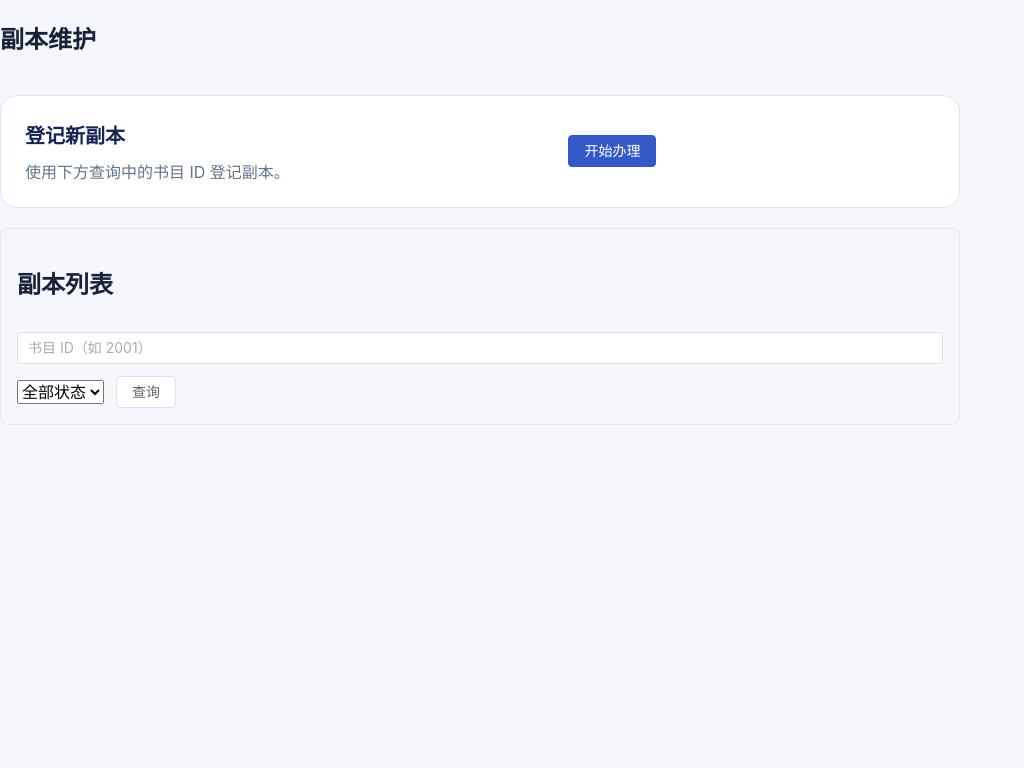
Test case: CopyAdminView › applies a state action with optimistic version
Submit the form with test id "copy-filter-form", box [17, 332, 943, 408]
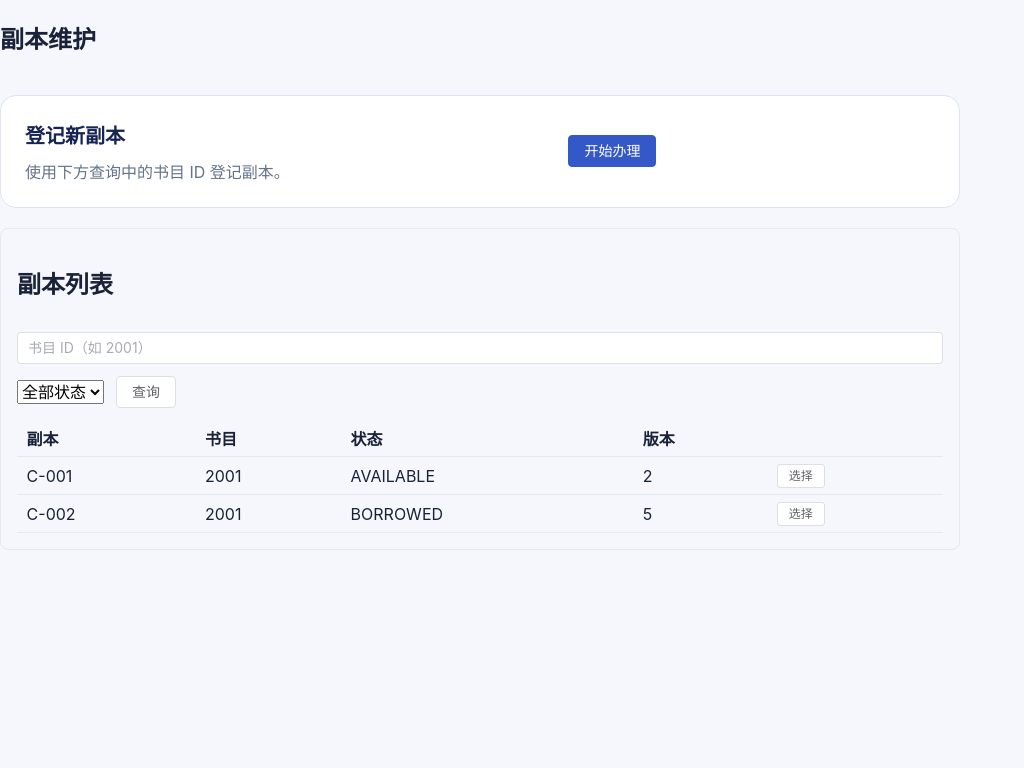
Click the button with test id "copy-select-3001" at (801, 476), box [777, 464, 825, 488]
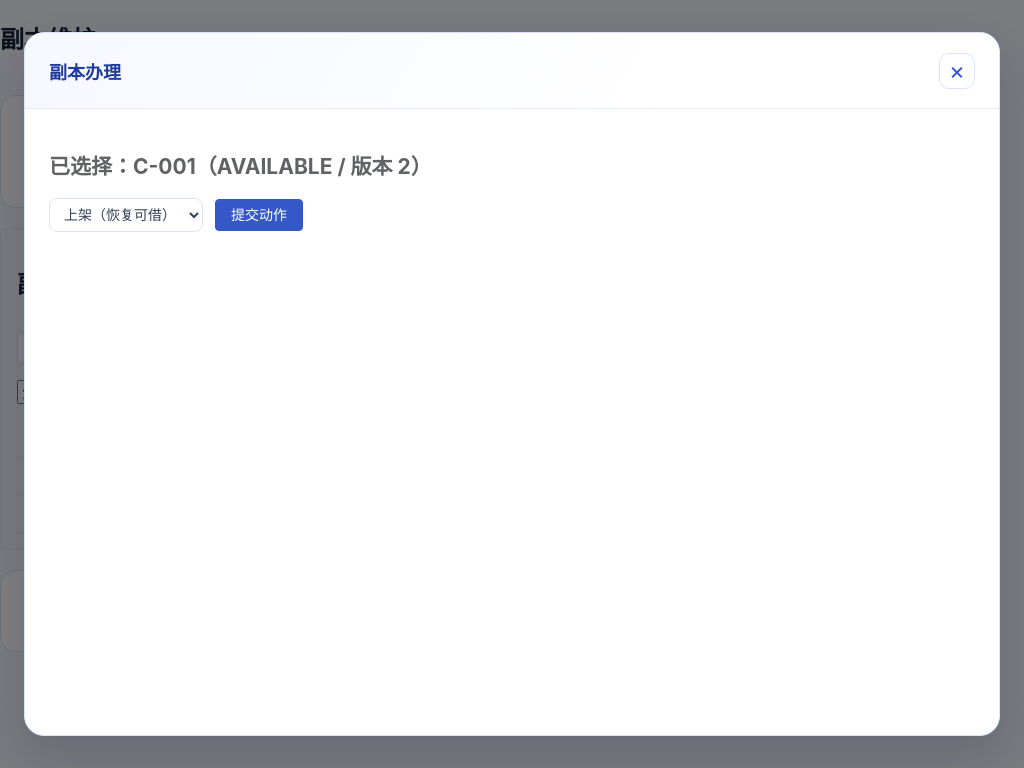
Select "转入维护" in the dropdown with test id "copy-action" at (126, 215), box [49, 198, 203, 232]
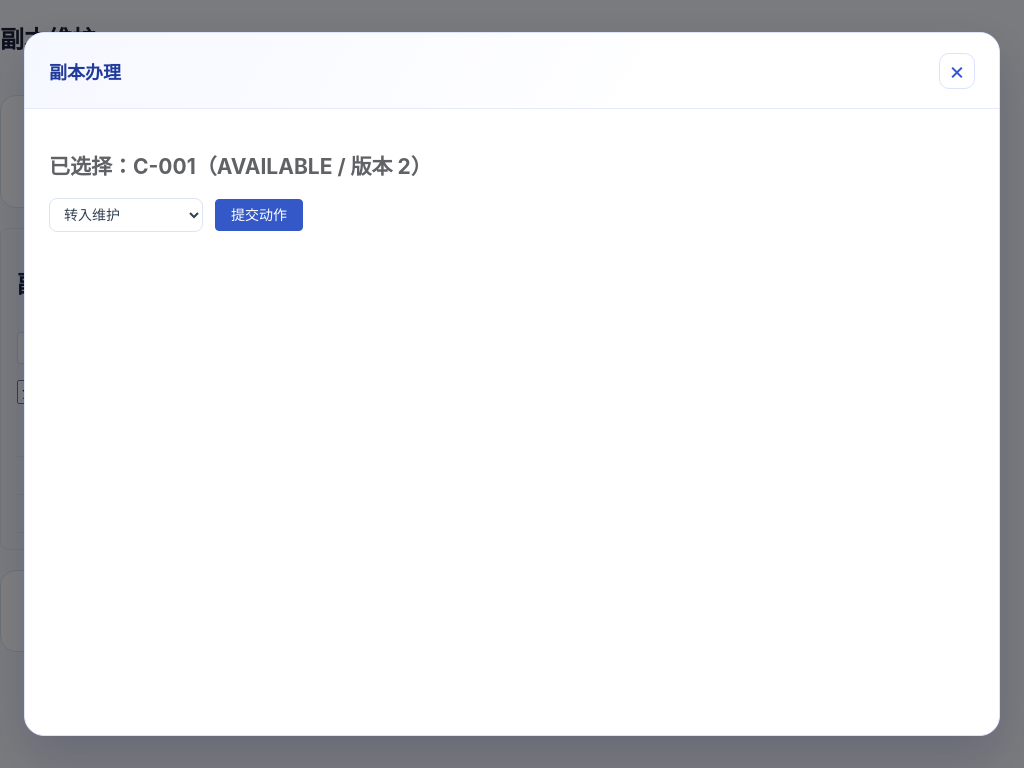
Submit the form with test id "copy-action-form", box [49, 198, 303, 232]
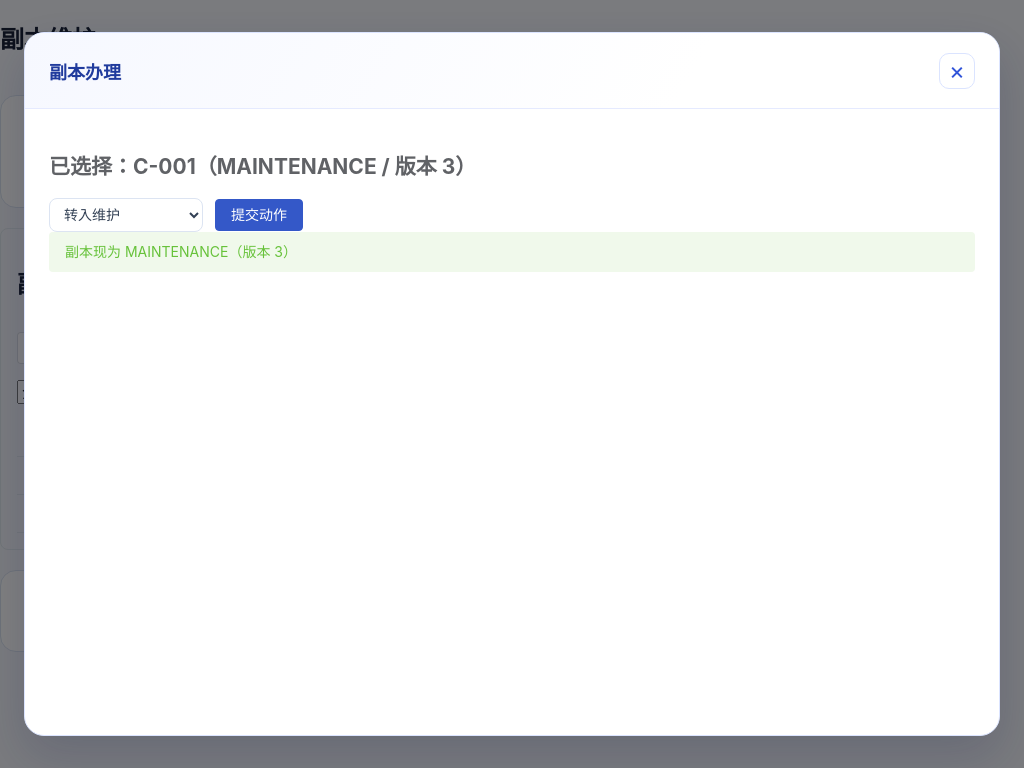
expect the element with test id "copy-action-success" is shown: met, box [49, 232, 975, 272]
expect the element with test id "copy-action-success" shows "MAINTENANCE": met, box [65, 243, 297, 260]
expect the element with test id "copy-action-success" shows "3": met, box [65, 243, 297, 260]
